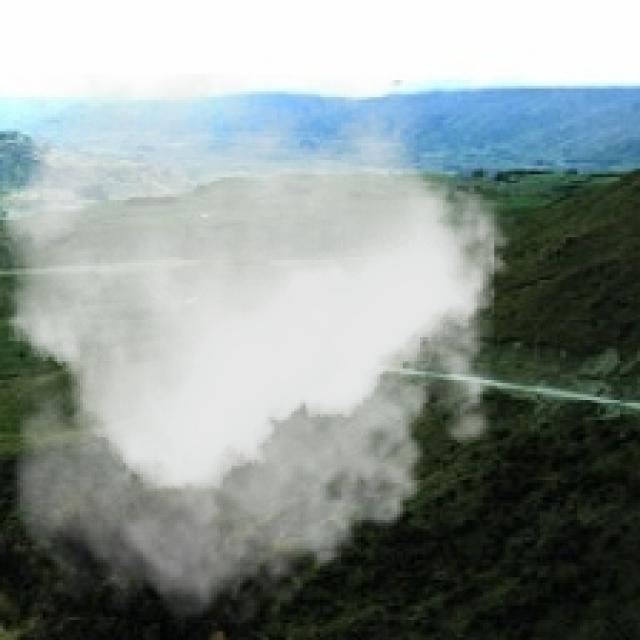smoke: (0, 74, 526, 637)
